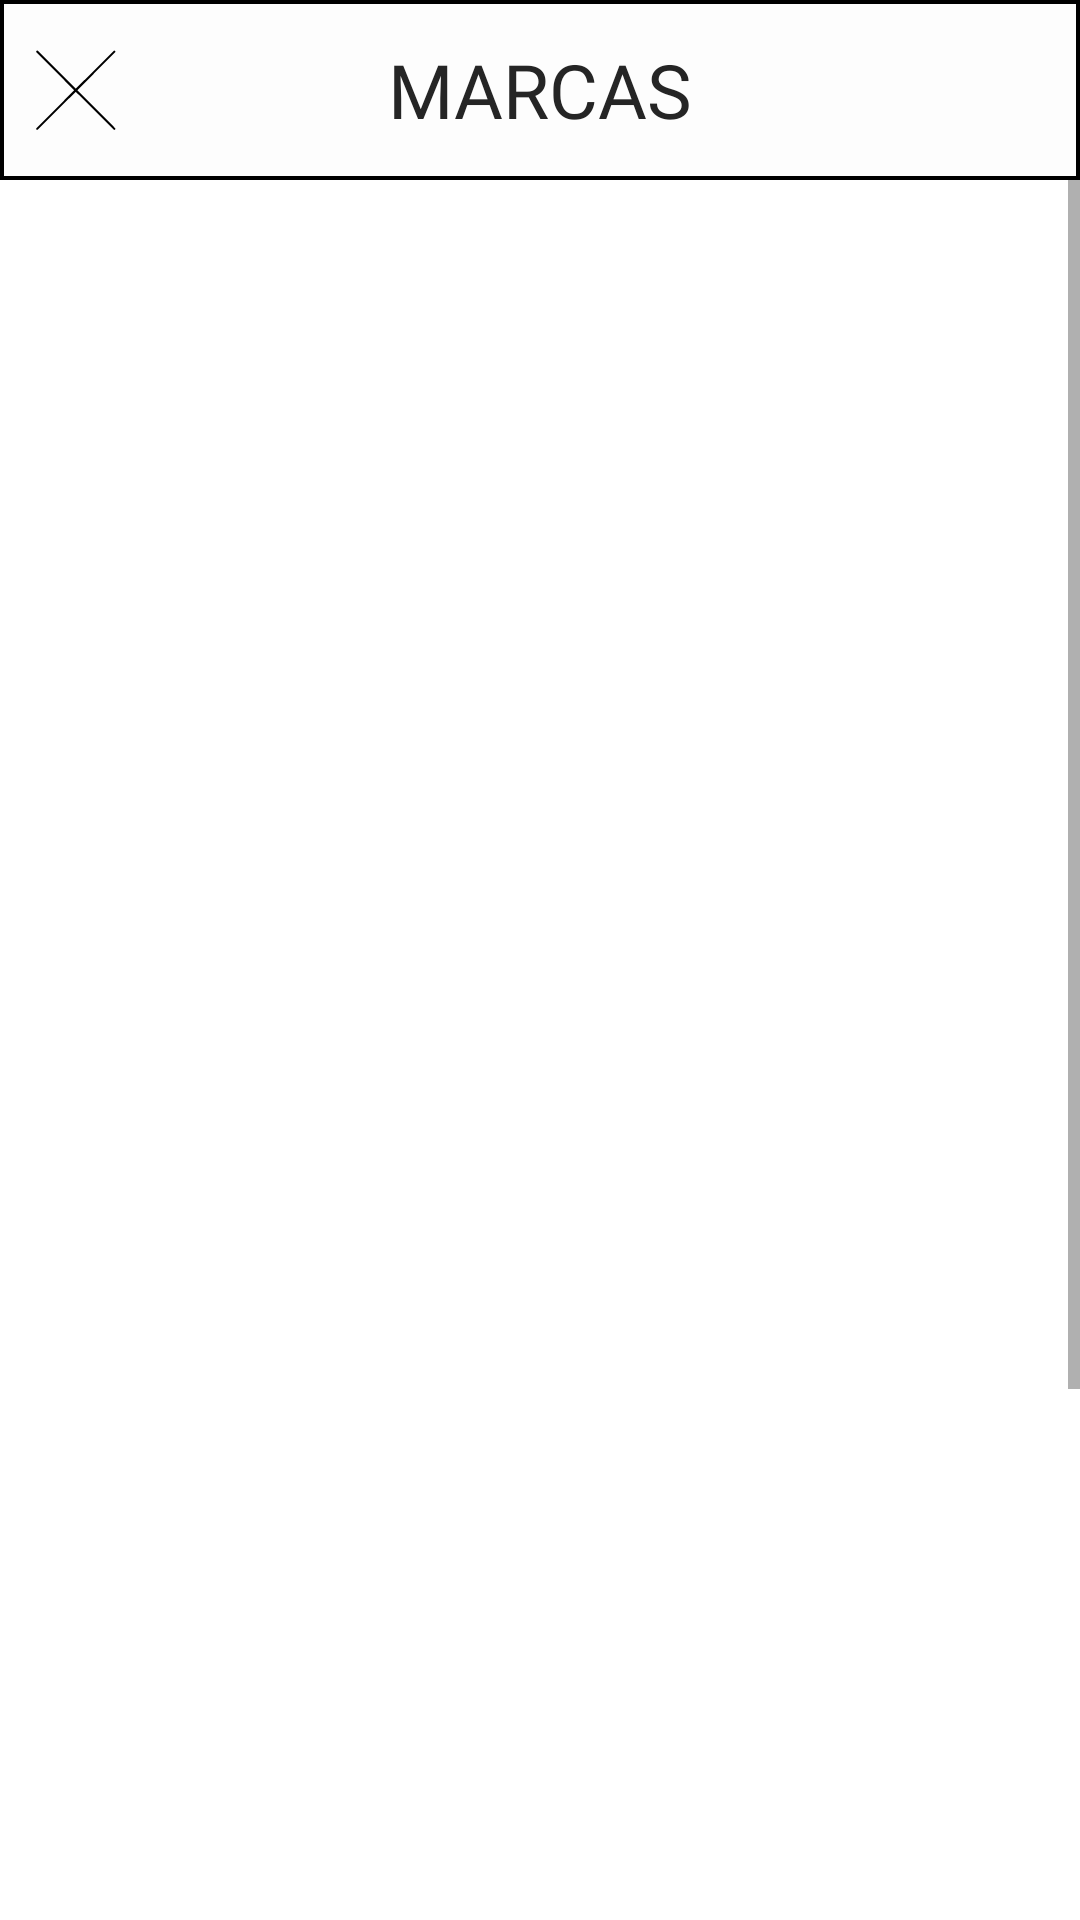

Where to tap for icons on this 1080x1920 app screen, as (x=x, y=y):
cruz: (x=75, y=90)
